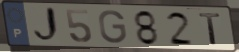2: (164, 11, 195, 47)
5: (64, 8, 94, 44)
8: (131, 8, 160, 48)
G: (97, 9, 129, 45)
J: (32, 6, 63, 45)
T: (197, 12, 224, 47)
